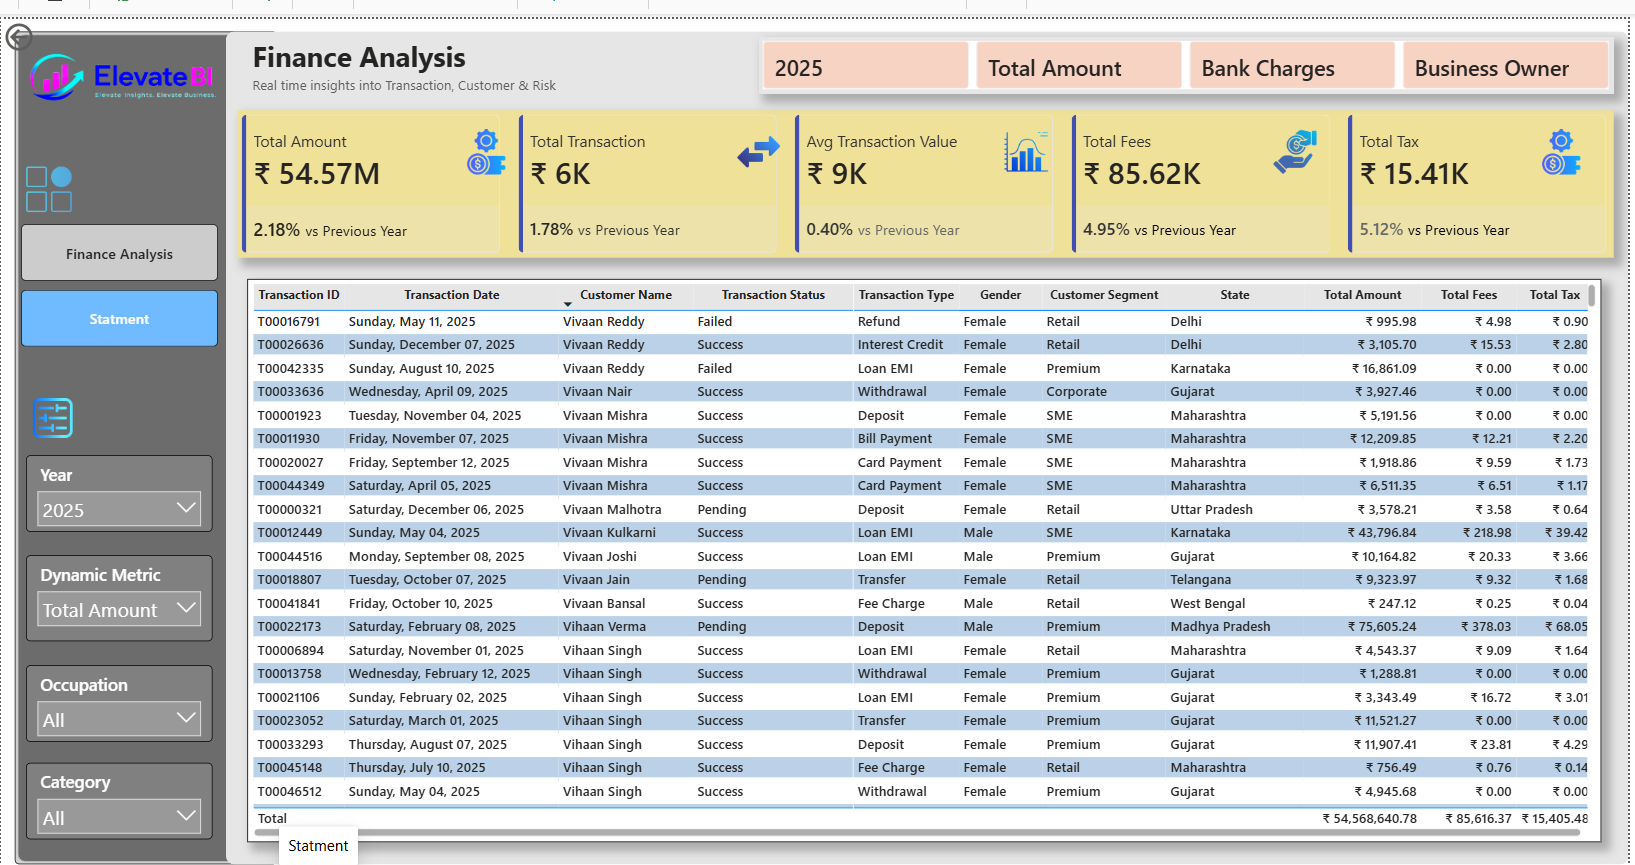

This screenshot's page, from the dashboard's own definition file:
{"tool":"powerbi","page":{"name":"Statment","canvas":[1800,950],"ordinal":1},"visuals":[{"type":"shape","box":[15,13.3,290,921.7],"z":0},{"type":"shape","box":[248.3,13.3,1551.7,921.7],"z":1000},{"type":"cardVisual","fields":{"Data":["finance_transactions.Dashboard Title"]},"box":[261.7,13.3,370,75],"z":2000},{"type":"cardVisual","fields":{"Data":["finance_transactions.Total Amount","finance_transactions.Total Transaction","finance_transactions.Avg Transaction Value","finance_transactions.Total Fees","finance_transactions.Total Tax"]},"box":[261.7,101.7,1523.3,163.3],"z":3000},{"type":"image","box":[511.7,121.7,50,50],"z":4000},{"type":"image","box":[813.3,121.7,50,50],"z":5000},{"type":"image","box":[1110,121.7,50,50],"z":6000},{"type":"image","box":[1406.7,121.7,50,50],"z":7000},{"type":"image","box":[1701.7,121.7,50,50],"z":8000},{"type":"cardVisual","fields":{"Data":["finance_transactions.Selected Year","finance_transactions.Selected Dynamic Measure","Min(finance_transactions.merchant_category)","Min(customers.occupation)"]},"box":[838.3,20,946.7,63.3],"z":10000},{"type":"actionButton","box":[0,0,100,40],"z":11000},{"type":"tableEx","fields":{"Values":["finance_transactions.transaction_id","finance_transactions.transaction_date","customers.Customer Name","finance_transactions.transaction_status","finance_transactions.transaction_type","customers.gender","customers.customer_segment","customers.state","finance_transactions.Total Amount","finance_transactions.Total Fees","finance_transactions.Total Tax"]},"box":[272.9,288.3,1498.3,623],"z":12000},{"type":"slicer","fields":{"Values":["Calendra Table.Year"]},"box":[28.3,483.3,206.7,85],"z":13000},{"type":"slicer","fields":{"Values":["Dynamic Metric.Dynamic Metric"]},"box":[28.3,593.3,206.7,95],"z":14000},{"type":"slicer","fields":{"Values":["customers.occupation"]},"box":[28.3,715,206.7,85],"z":15000},{"type":"slicer","fields":{"Values":["finance_transactions.merchant_category"]},"box":[28.3,823.3,206.7,85],"z":16000},{"type":"pageNavigator","box":[21.7,226.7,218.3,136.7],"z":17000},{"type":"image","box":[26.7,163.3,53.3,50],"z":18000},{"type":"image","box":[30,416.7,53.3,50],"z":19000},{"type":"image","box":[15,15,233.3,101.7],"z":20000}]}

Visuals, with their boxes on the page's 1800x950 design canvas (x1, y1, x2, y2). These are canvas units, not pixel positions in the 1635x865 screenshot, which may show the page scaled, cropped or inside an application window:
shape: [15,13,305,935]
shape: [248,13,1800,935]
cardVisual - finance_transactions.Dashboard Title: [262,13,632,88]
cardVisual - finance_transactions.Total Amount x finance_transactions.Total Transaction: [262,102,1785,265]
image: [512,122,562,172]
image: [813,122,863,172]
image: [1110,122,1160,172]
image: [1407,122,1457,172]
image: [1702,122,1752,172]
cardVisual - finance_transactions.Selected Year x finance_transactions.Selected Dynamic Measure: [838,20,1785,83]
actionButton: [0,0,100,40]
tableEx - finance_transactions.transaction_id x finance_transactions.transaction_date: [273,288,1771,911]
slicer - Calendra Table.Year: [28,483,235,568]
slicer - Dynamic Metric.Dynamic Metric: [28,593,235,688]
slicer - customers.occupation: [28,715,235,800]
slicer - finance_transactions.merchant_category: [28,823,235,908]
pageNavigator: [22,227,240,363]
image: [27,163,80,213]
image: [30,417,83,467]
image: [15,15,248,117]
